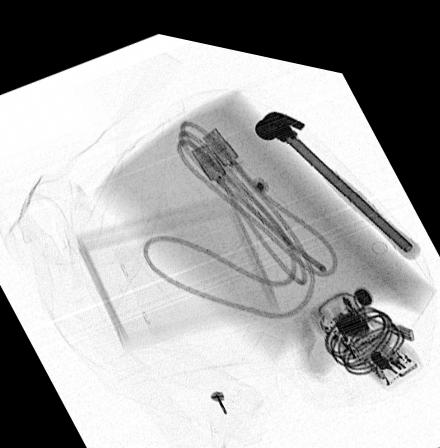Hammer: (254, 98, 421, 241)
